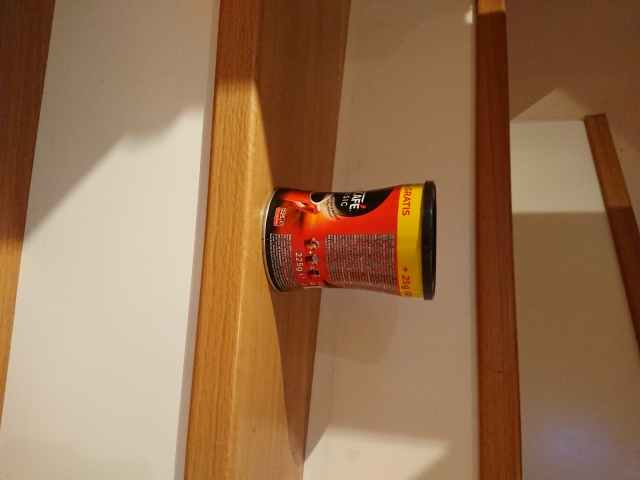Nescafe Classic 225g: (259, 178, 440, 302)
